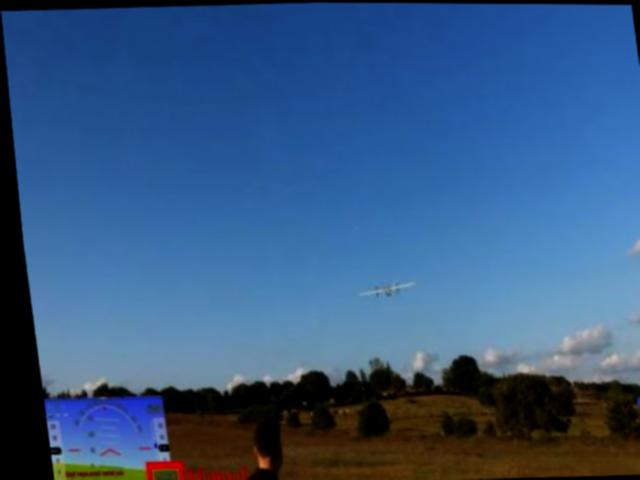uav: (350, 276, 413, 297)
